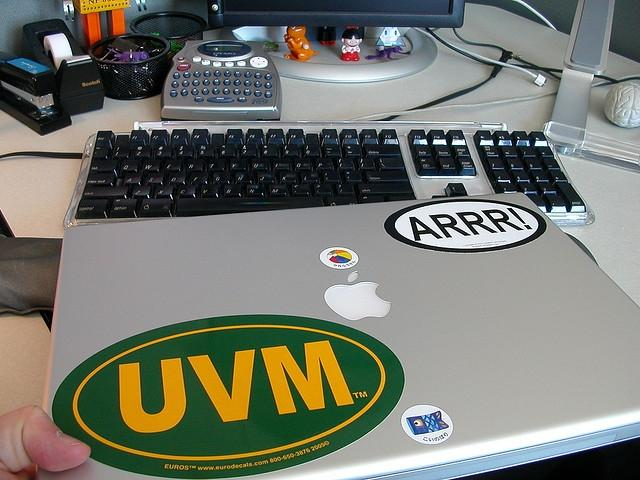apple: (324, 271, 392, 321)
